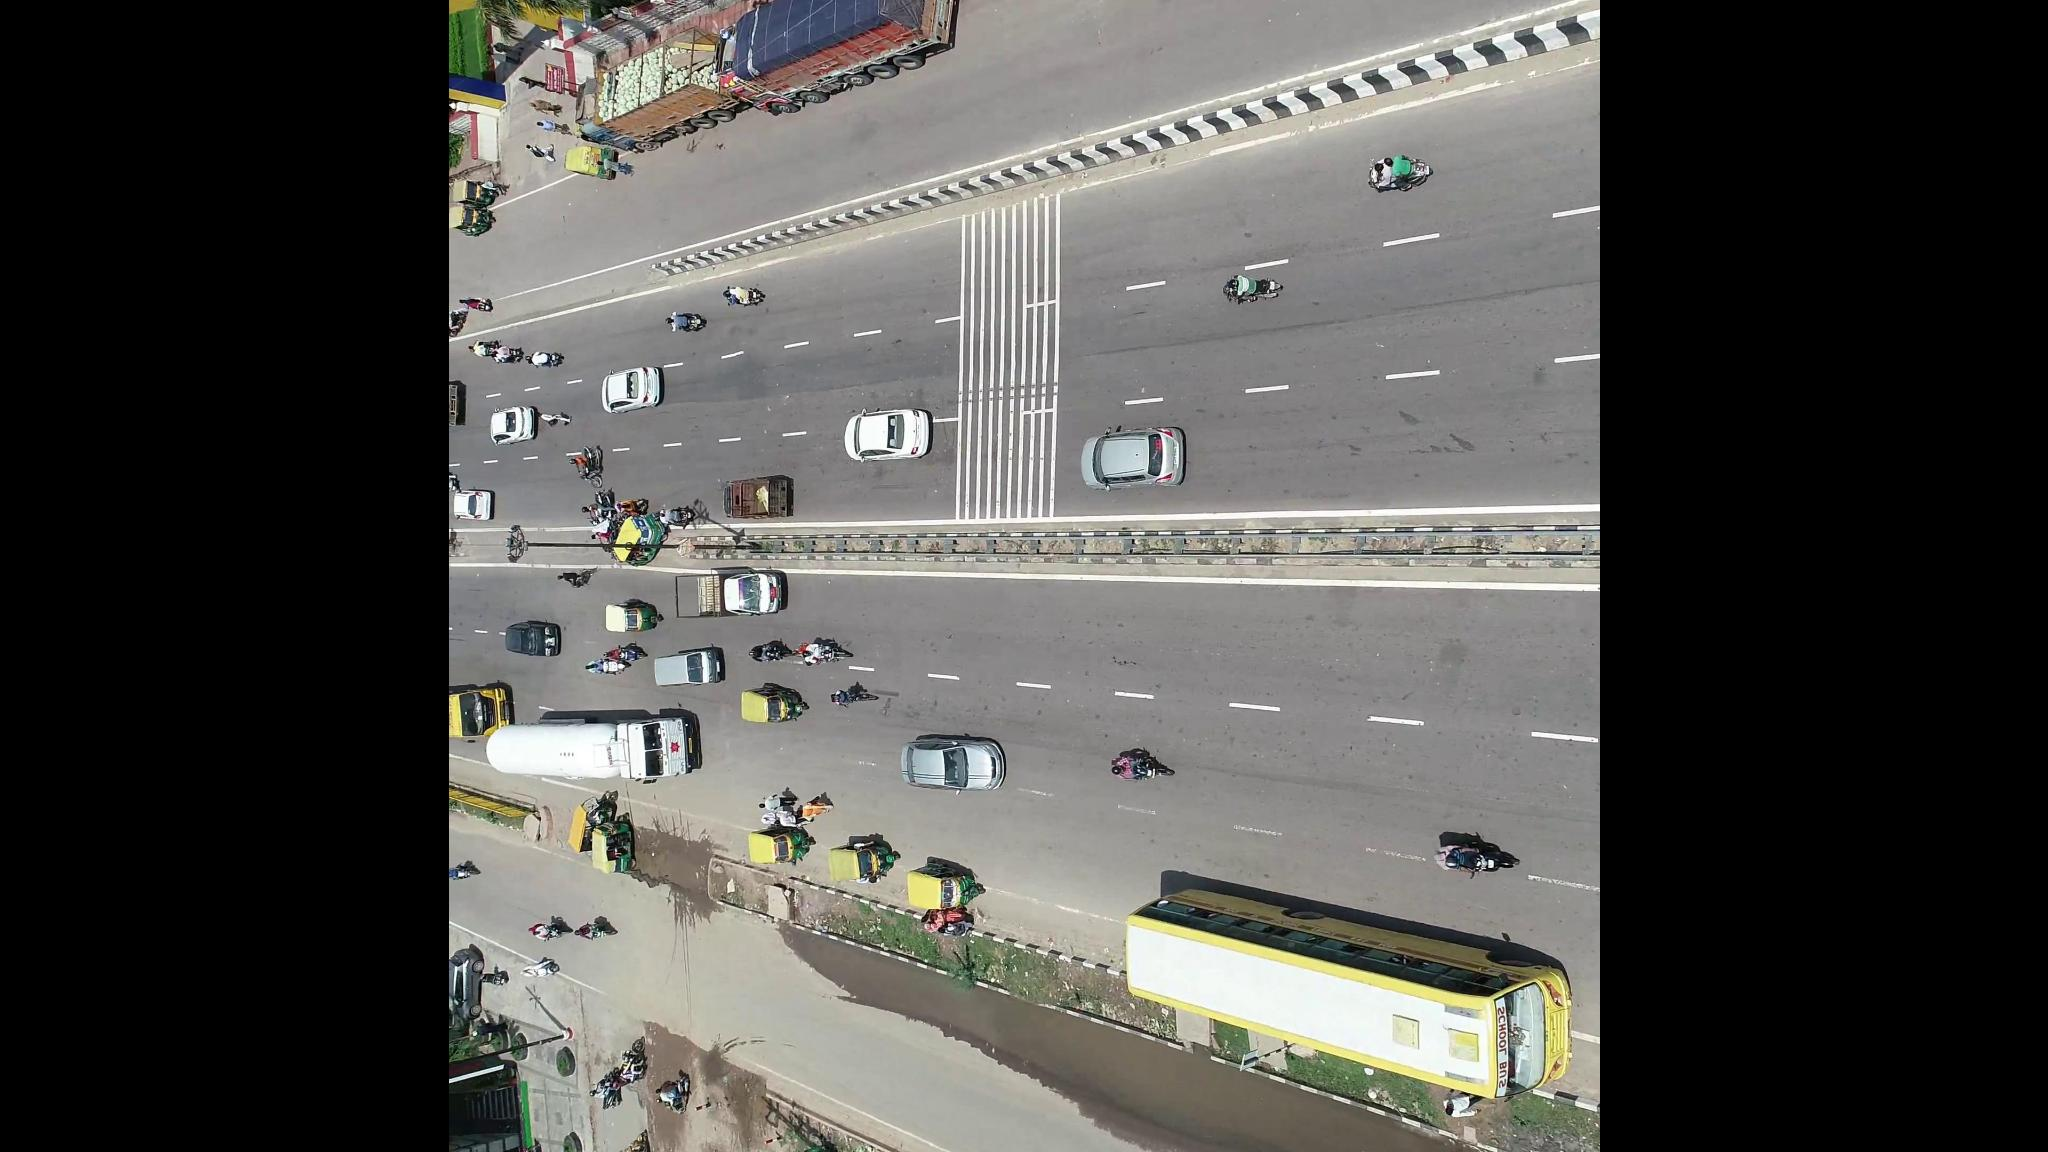Waterlogging: (942, 987, 1328, 1152)
